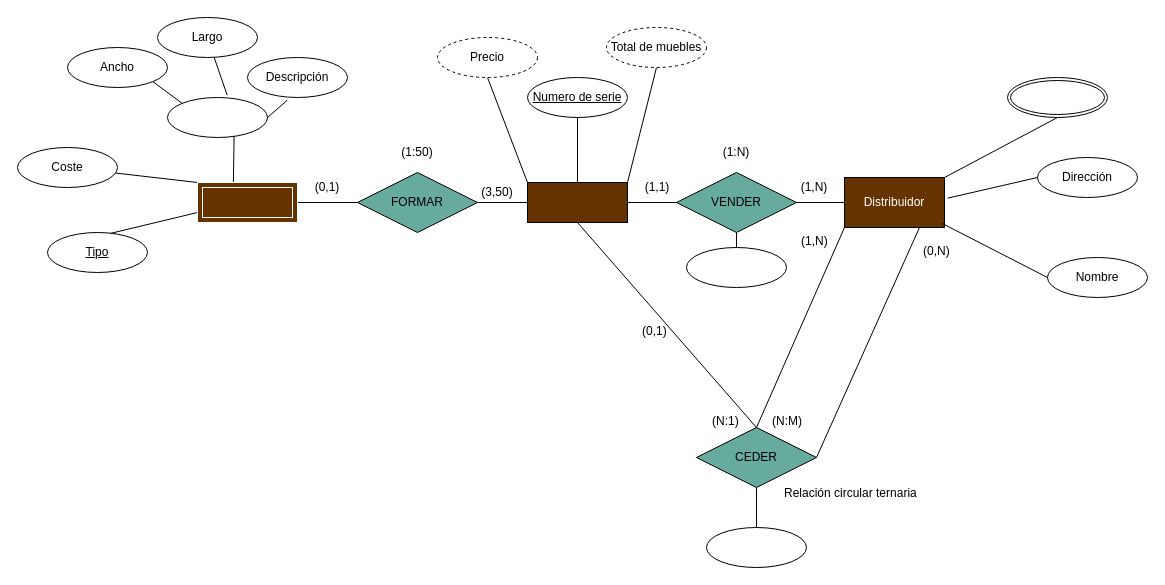
Image size: 1165x585. Some labels were removed from this diagram. Here are the shapes that lost their labels. From the top down, the box of each, then its label:
(166, 96, 268, 138): Diseño
(1006, 76, 1108, 118): Teléfono
(196, 182, 298, 222): Mueble
(526, 182, 628, 222): Cocina
(686, 246, 786, 288): Fecha de venta
(706, 526, 806, 568): Fecha
